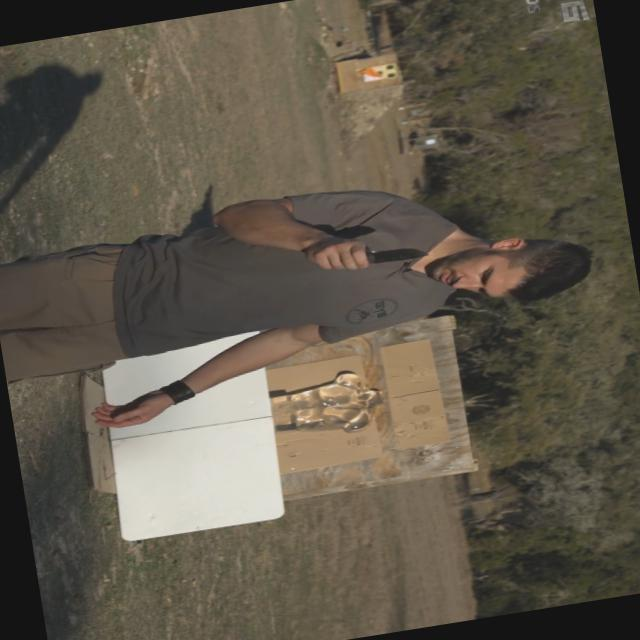knife: (320, 226, 440, 276)
